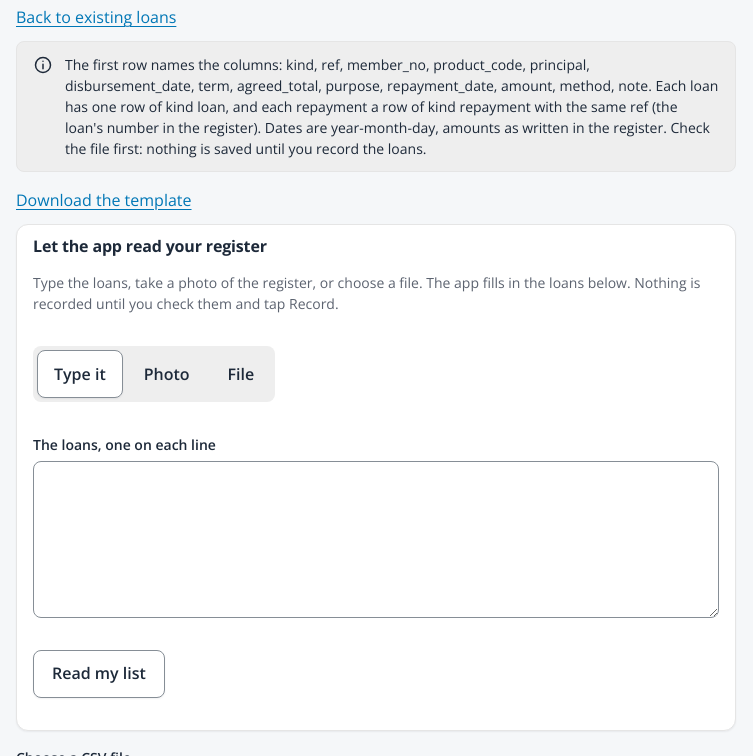
Test case: the setup helper on Import existing loans › reads a register into loans with a new member by name and phone, checked by the import in the branch in use
In the text box labelled "The loans, one on each line": (376, 540) [33,461,719,618], type "Y-01 Test Member New 400000"
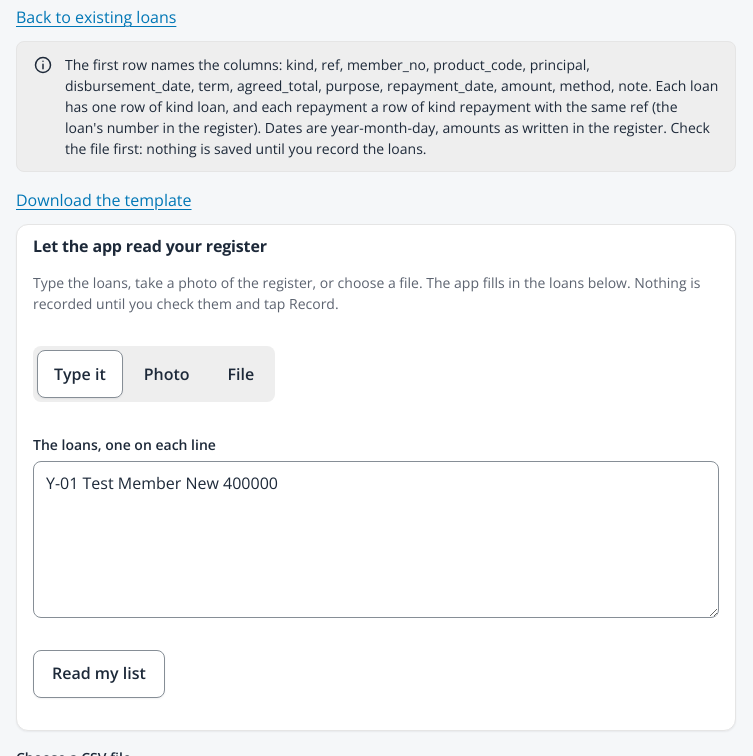
Click the button "Read my list": (99, 674) [33,650,165,698]
(page scrolled)
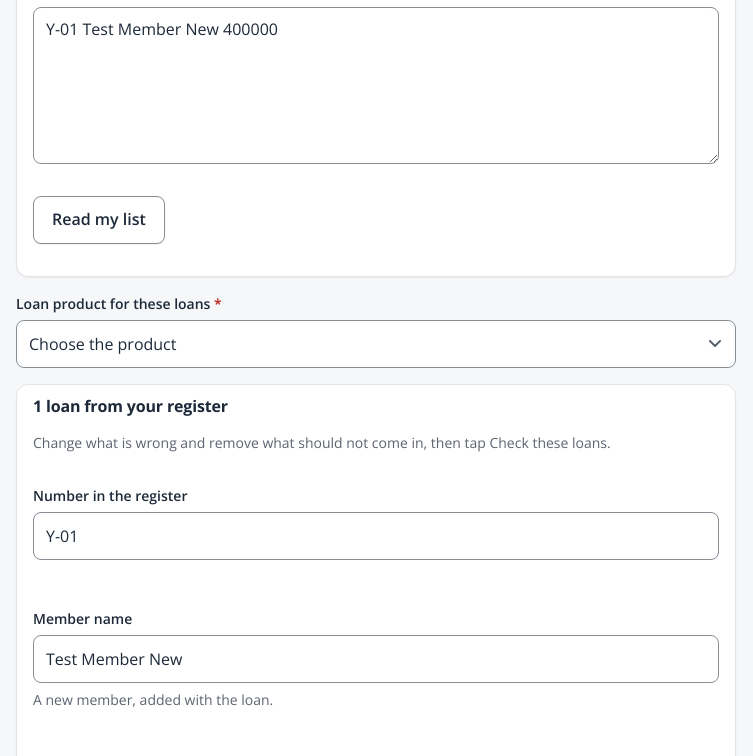
Expected: the heading "1 loan from your register" is shown, [33,397,228,416]
Select "LOAN1: Test Monthly" in the dropdown labelled "Loan product for these loans *": (376, 344) [16,320,736,368]
(page scrolled)
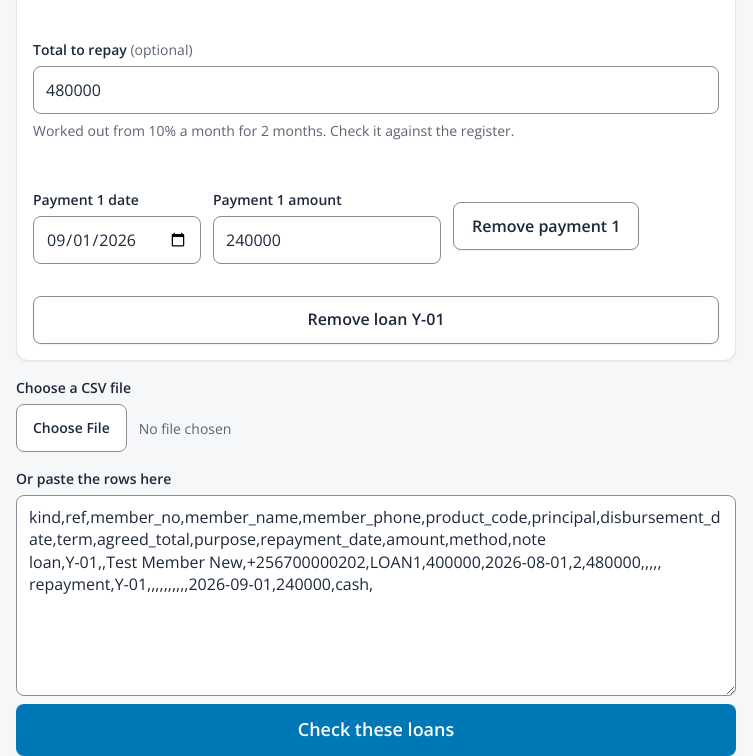
Click the button "Check these loans": (376, 730) [16,704,736,755]
(page scrolled)
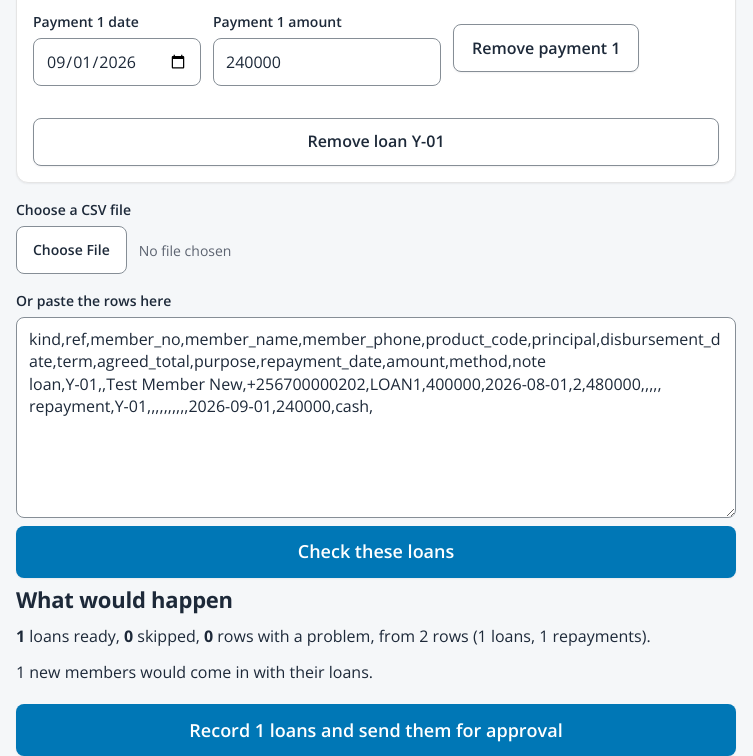
Expected: the text "1 new members would come in with their loans." is shown, [16,661,373,683]
Expected: the button "Record 1 loans and send them for approval" is shown, [16,704,736,755]
